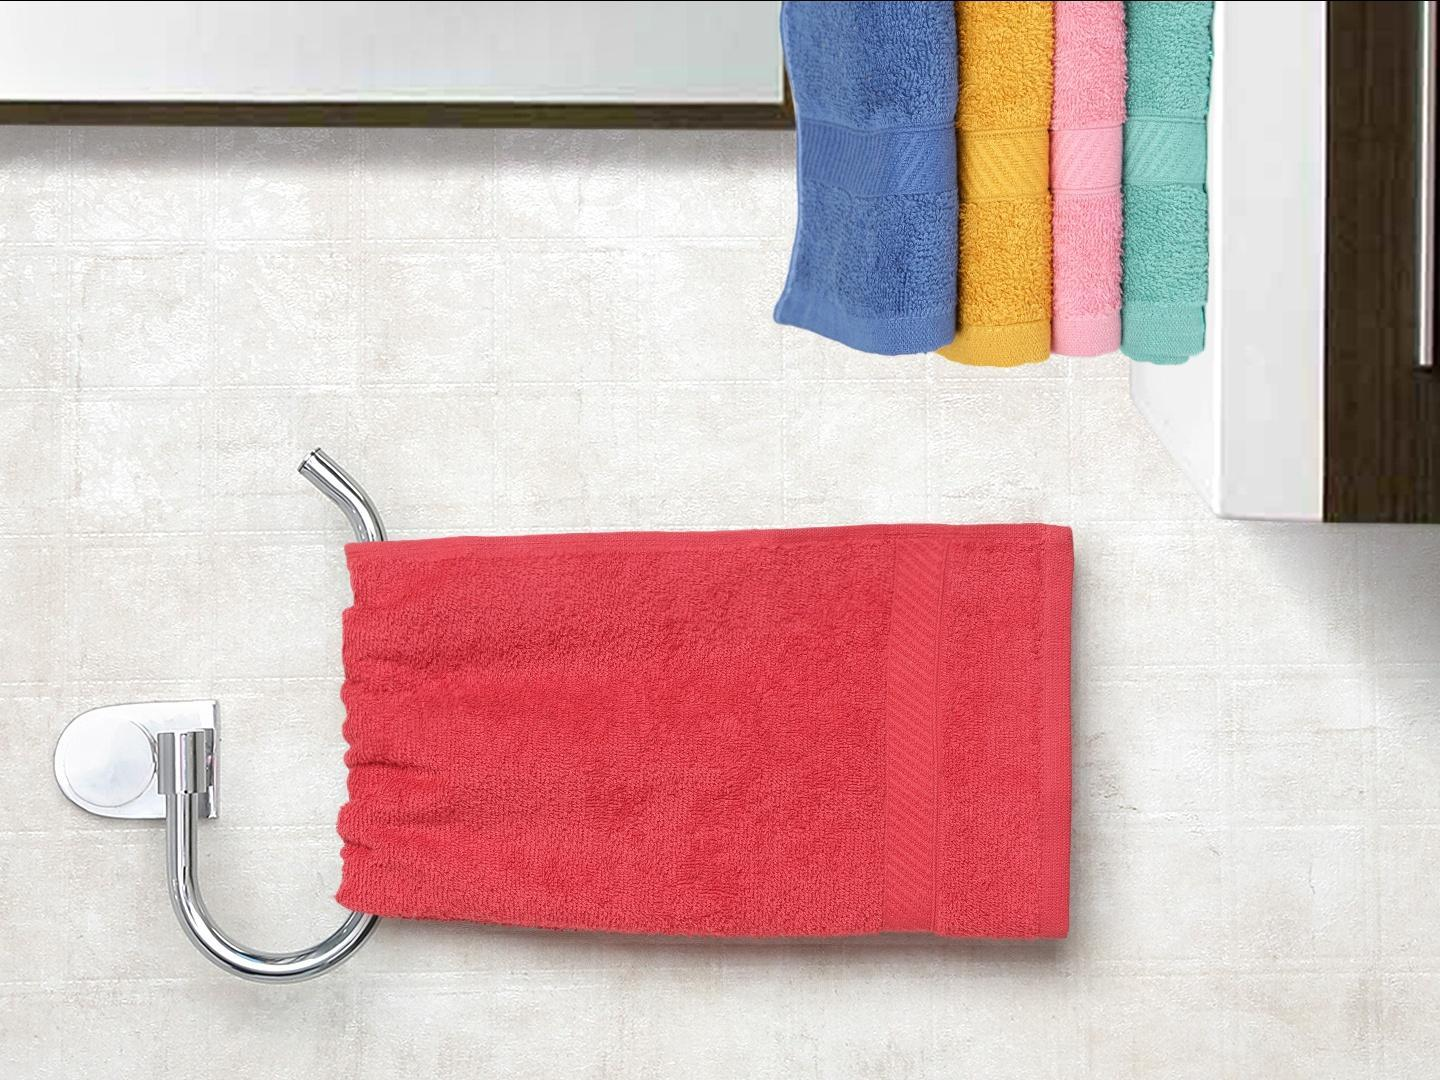towel: (305, 492, 1137, 993)
